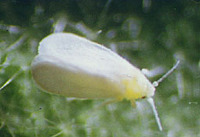whitefly: (28, 32, 181, 129)
